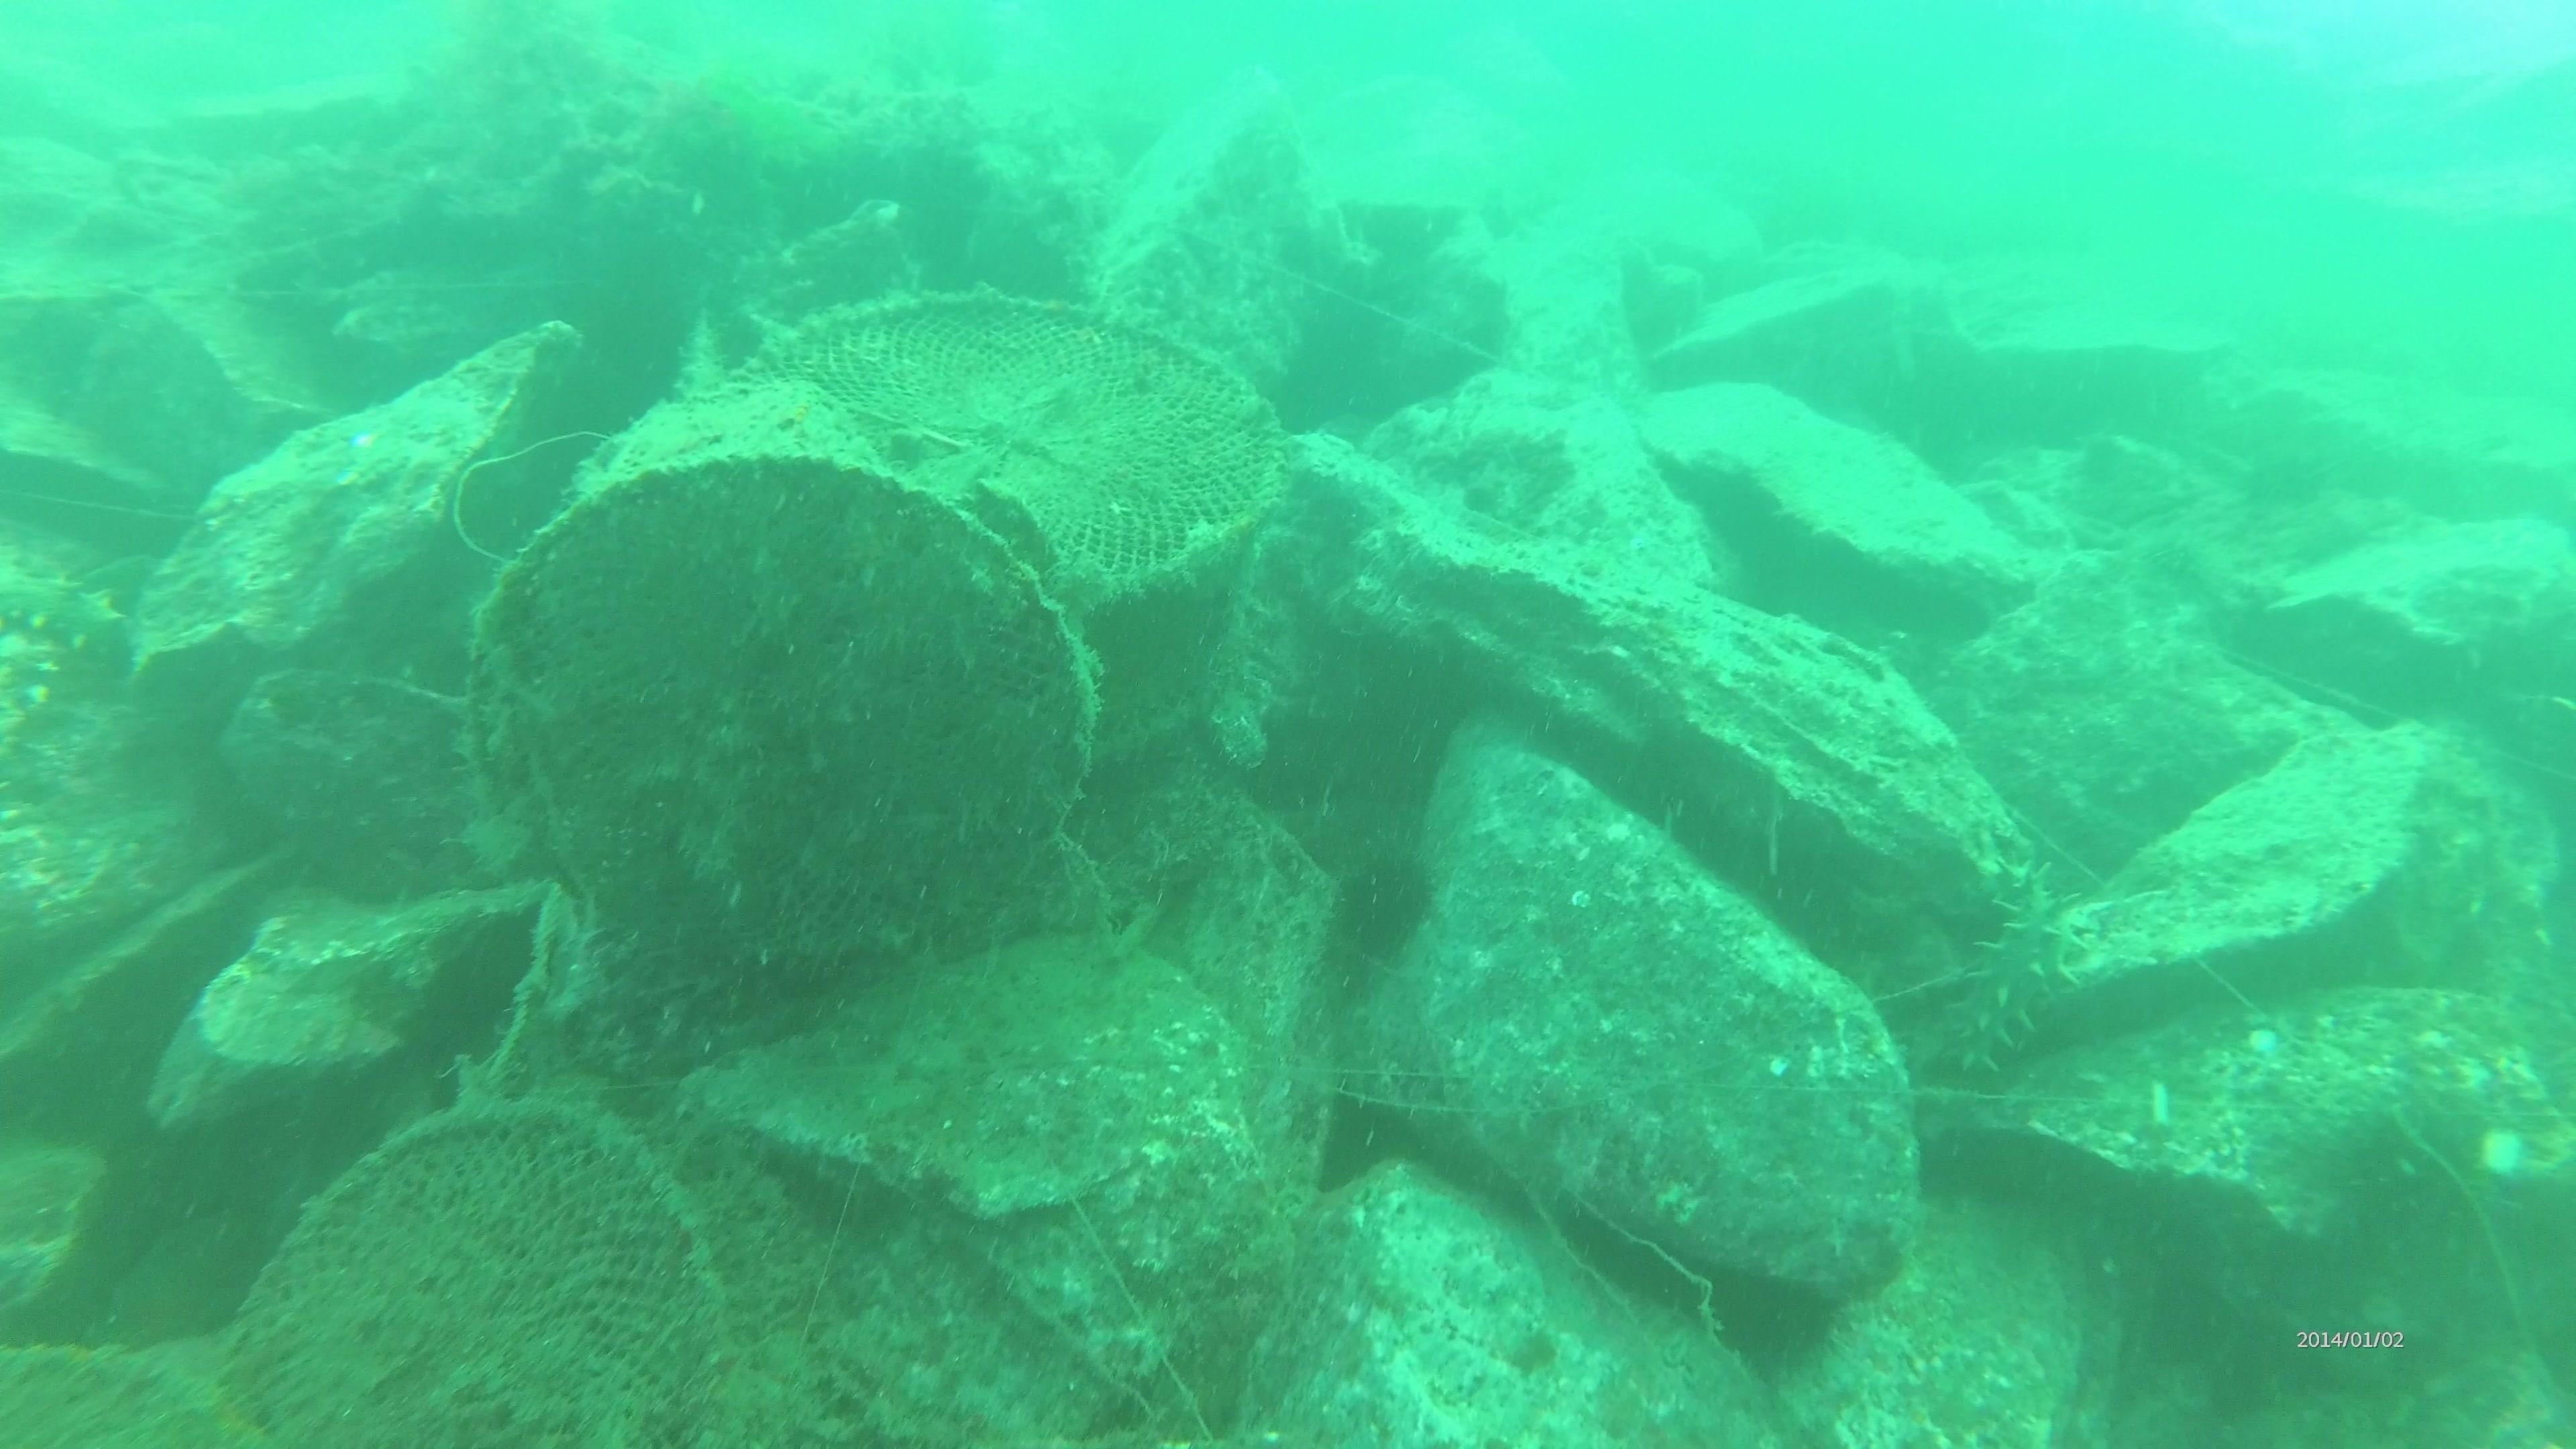echinus: (1700, 1256, 1847, 1380), (1323, 844, 1440, 966)
holothurian: (1928, 863, 2097, 1088), (0, 517, 136, 663)
